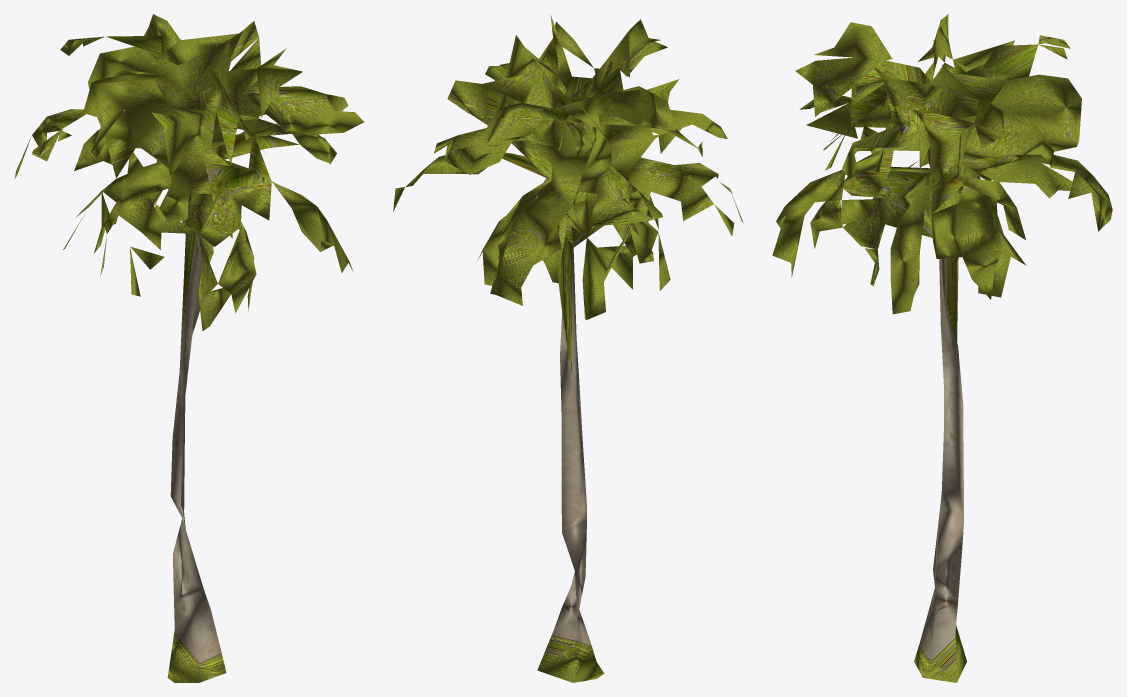
Rendered from coconut_palm_low.glb.
3 views of the same model, side by side, from view 1: azimuth 30°, elevation 25°; view 2: azimuth 150°, elevation 25°; view 3: azimuth 270°, elevation 25° (orthographic). The views are drawn at different scales.
Size of the model in its own units: 7.21 by 15 by 7.28.
Materials: 1 (1 with a texture image).
